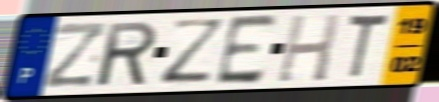E: (213, 12, 281, 88)
H: (275, 12, 344, 84)
R: (96, 19, 159, 89)
T: (344, 12, 391, 82)
Z: (157, 18, 230, 88), (40, 20, 110, 91)
